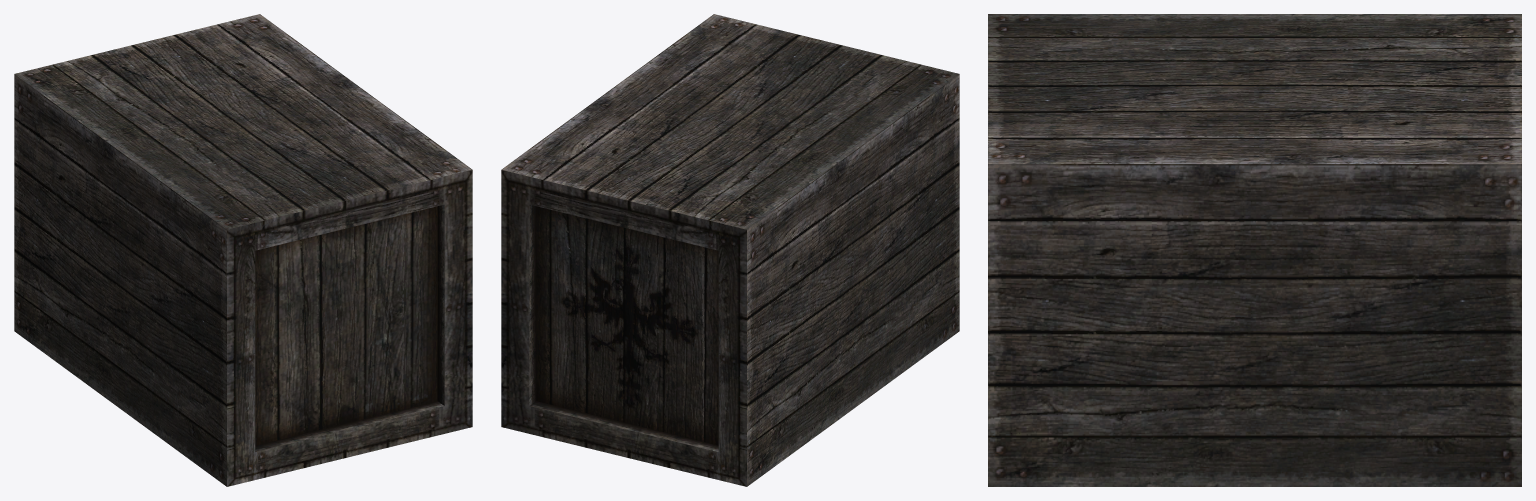
Rendered from wood_box01.dae.
3 renders of one model, left to right at view 1: azimuth 30°, elevation 25°; view 2: azimuth 150°, elevation 25°; view 3: azimuth 270°, elevation 25°, orthographic. The views are drawn at different scales.
Visible parts, largest first — view 1: pCube1; view 2: pCube1; view 3: pCube1.
Part boxes in pixels (bbox=[...]): pCube1: bbox=[14, 14, 472, 486]; pCube1: bbox=[501, 14, 959, 486]; pCube1: bbox=[988, 14, 1521, 486].
Bounding box in the file's own units: 0.6 × 0.6 × 0.9.
